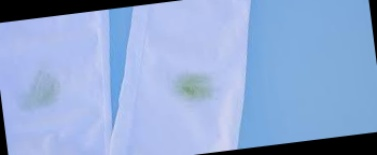earth: (26, 74, 63, 104), (173, 72, 207, 101)
